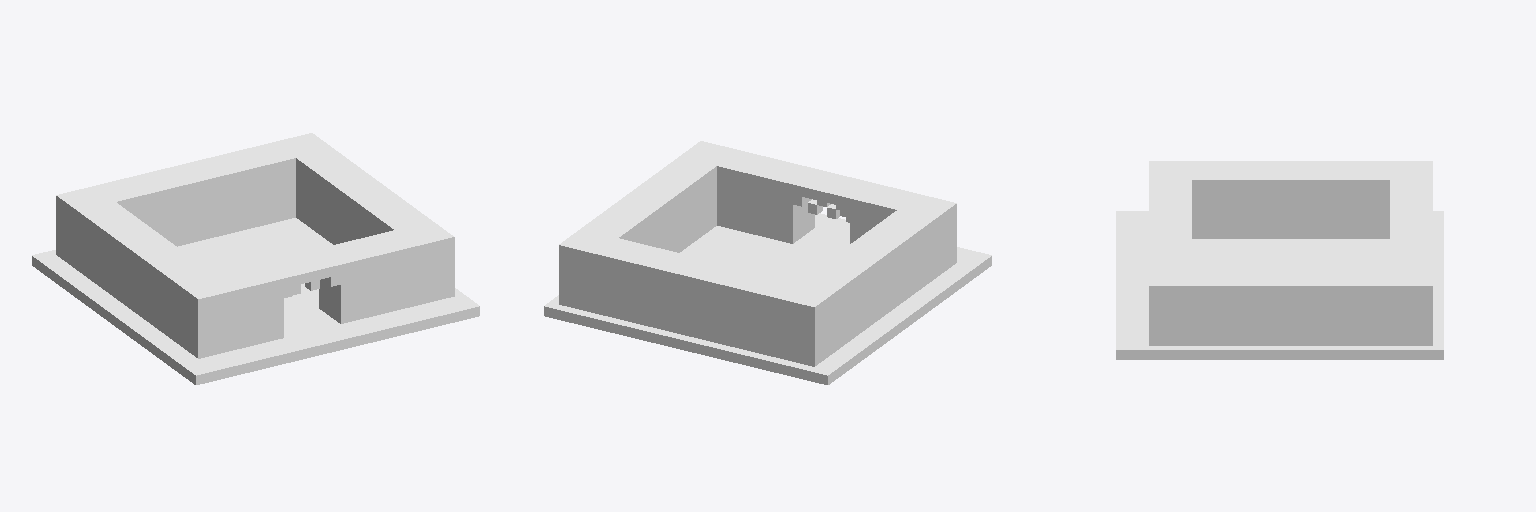
File: chr_poem.obj
3 renders of one model, left to right at view 1: azimuth 30°, elevation 25°; view 2: azimuth 150°, elevation 25°; view 3: azimuth 270°, elevation 25°, orthographic.
Bounding box in the file's own units: 30 × 7 × 30.